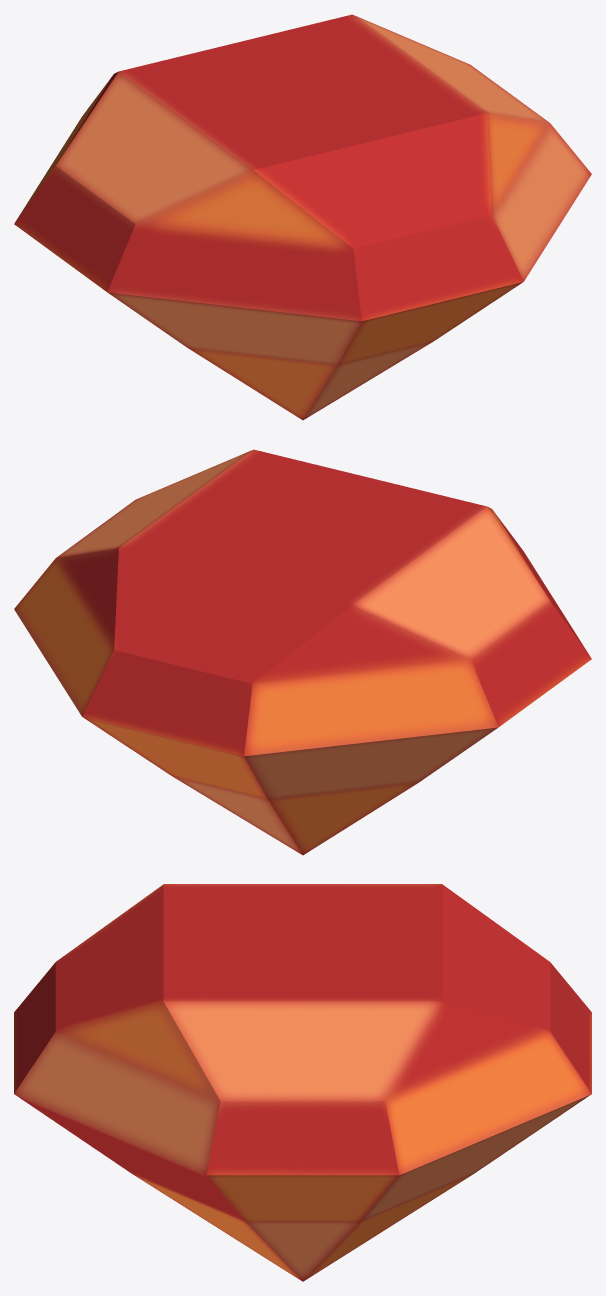
File: pedra lapidada vermelha.fbx
The picture shows the model from 3 angles, top to bottom: view 1: azimuth 30°, elevation 25°; view 2: azimuth 150°, elevation 25°; view 3: azimuth 270°, elevation 25°; orthographic projection. The views are drawn at different scales.
Visible parts, largest first — view 1: Cube.001; view 2: Cube.001; view 3: Cube.001.
Boxes of the visible parts, bbox=[...] form: Cube.001: bbox=[14, 14, 591, 420]; Cube.001: bbox=[14, 449, 591, 855]; Cube.001: bbox=[14, 884, 591, 1281].
Bounding box in the file's own units: 200 × 130 × 200.
